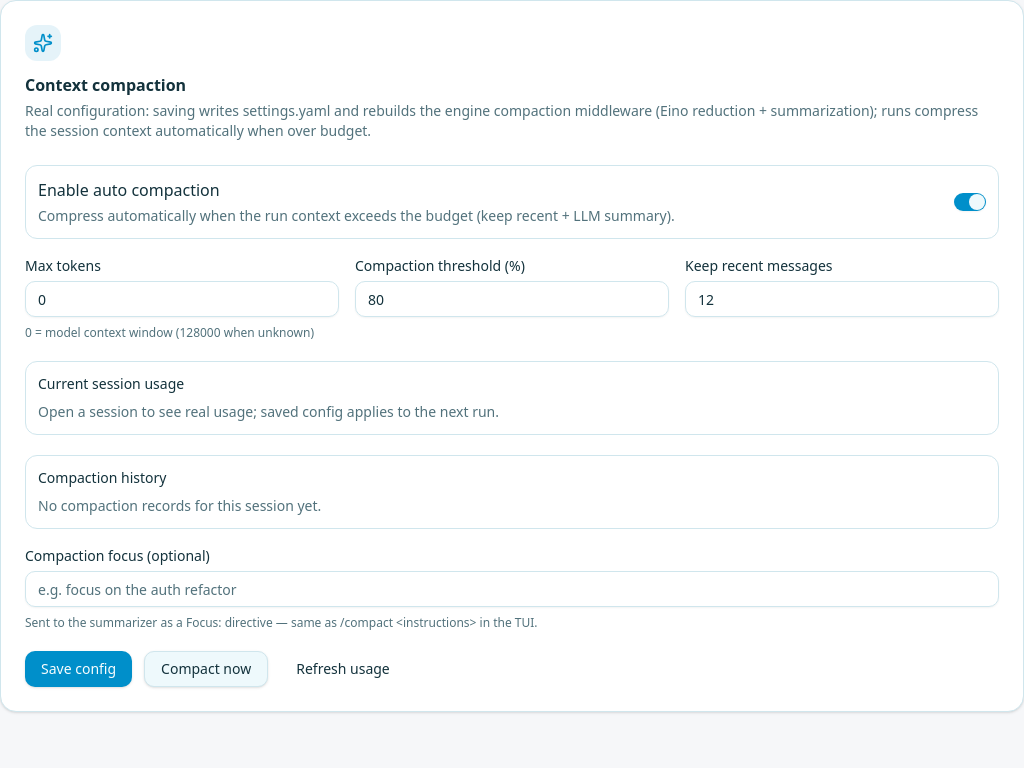
Test case: CompactionSettingsCard mounted feedback › preserves raw backend errors across locale changes
This screenshot has width=1024, height=768.
Click the button "Compact now": (206,669) left=144, top=651, right=268, bottom=687
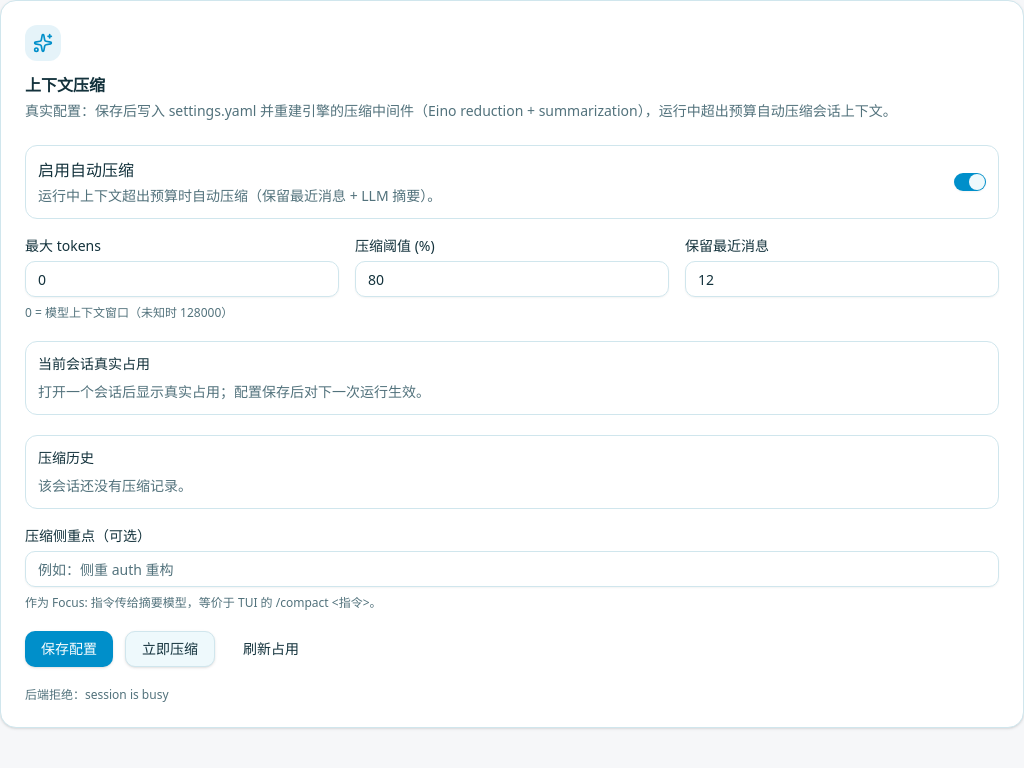
expect the text "后端拒绝：session is busy" is shown: met, box left=25, top=686, right=168, bottom=703
